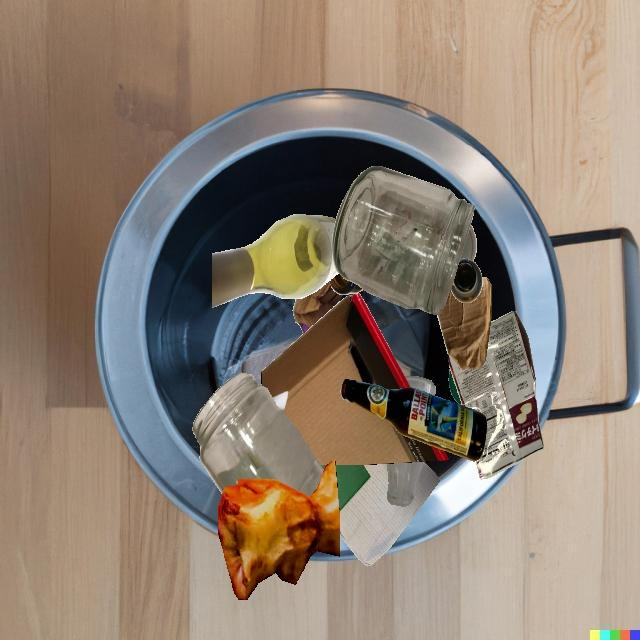biowaste: (218, 460, 340, 600)
cardboard: (261, 293, 449, 465), (437, 277, 491, 371), (292, 281, 343, 334)
glass: (332, 166, 475, 315), (192, 373, 324, 497), (340, 379, 487, 461), (212, 214, 339, 308), (387, 461, 424, 506), (450, 258, 482, 303), (329, 273, 364, 295), (404, 376, 435, 396), (460, 224, 476, 261)
paper: (340, 462, 440, 566), (335, 465, 371, 513)
plastic: (448, 311, 544, 480), (448, 369, 462, 405)
